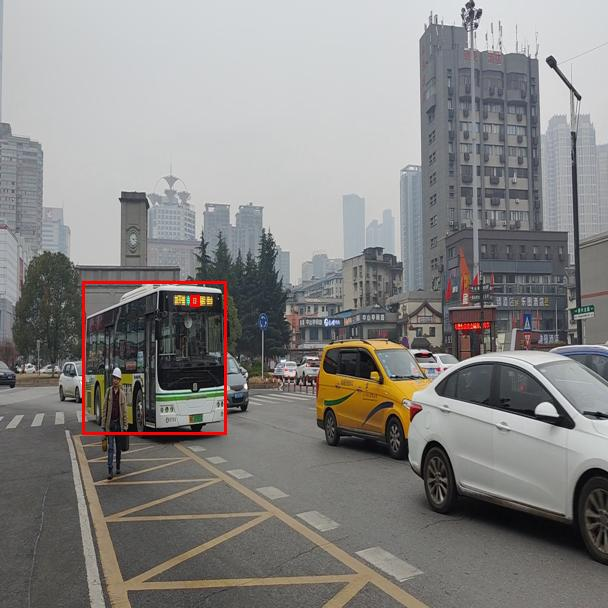bus: (82, 281, 226, 434)
screen: (190, 295, 199, 306)
